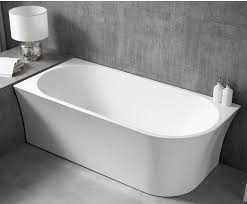bathub: (12, 54, 243, 198)
